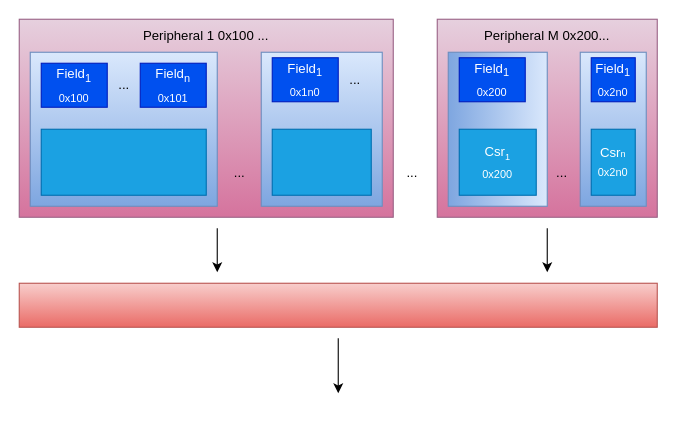
This 677x421 diagram has some shape labels left out. The box of each missing label's shape, as (x1, y1, x2, y2) in pixels:
Bus/Or Gate Network: (18, 282, 657, 327)
Csr 1 0x100: (40, 128, 206, 195)
Csr n 0x1n0: (271, 128, 371, 195)
